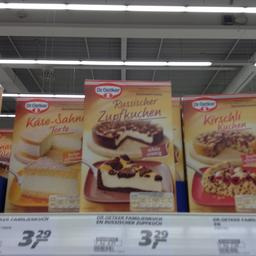cake: (82, 78, 177, 212), (2, 94, 82, 215), (180, 92, 254, 212)
